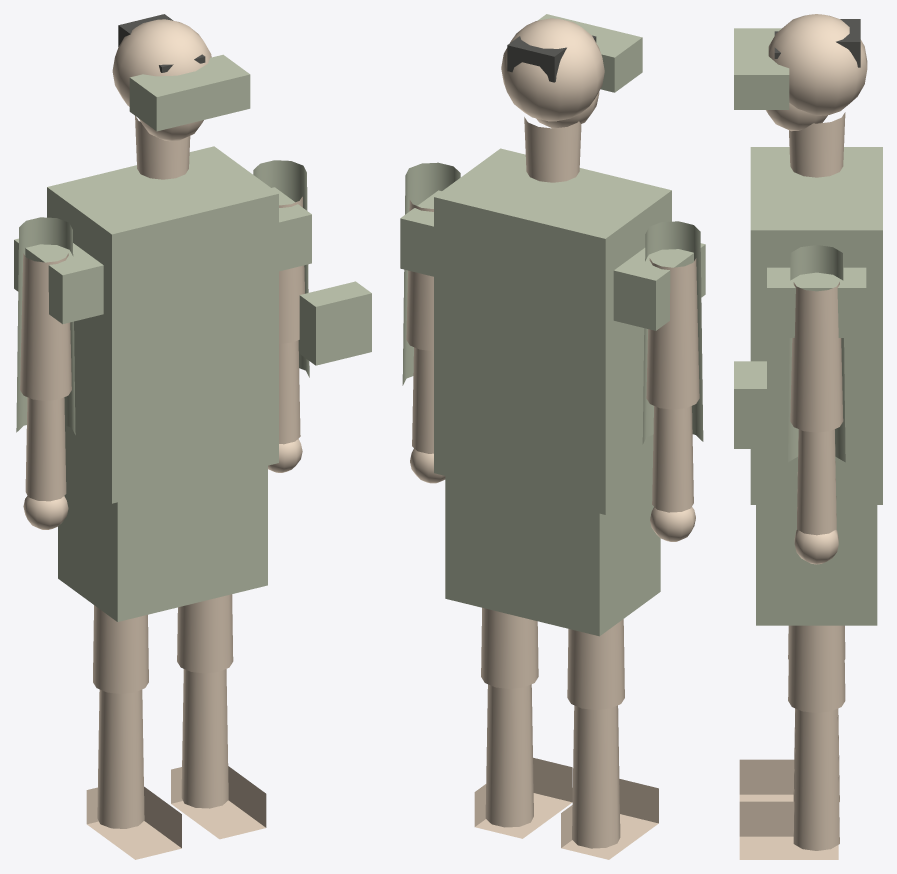
File: body.glb
3 renders of one model, left to right at view 1: azimuth 30°, elevation 25°; view 2: azimuth 150°, elevation 25°; view 3: azimuth 270°, elevation 25°, orthographic. The views are drawn at different scales.
Visible parts, largest first — view 1: Metal, Skin; view 2: Metal, Skin, Hair; view 3: Metal, Skin, Hair.
Part boxes in pixels (x1,y1,x2,y2): Metal: (14, 54, 371, 621); Skin: (20, 19, 304, 859); Metal: (400, 14, 705, 636); Skin: (406, 18, 699, 859); Hair: (507, 35, 596, 82); Metal: (734, 28, 882, 625); Skin: (739, 14, 867, 859); Hair: (774, 19, 860, 67).
Bounding box in the file's own units: 0.6652 × 1.62 × 0.27.
